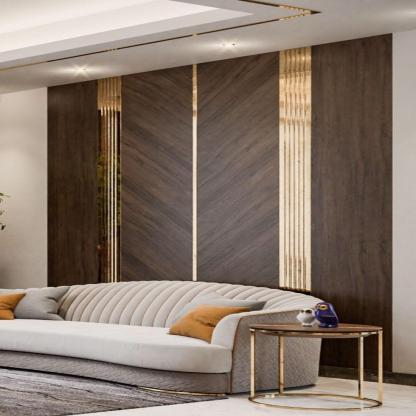Carpet: (0, 369, 232, 416)
Gypsum Board: (0, 0, 416, 99)
Wall Panel: (48, 34, 392, 303)
